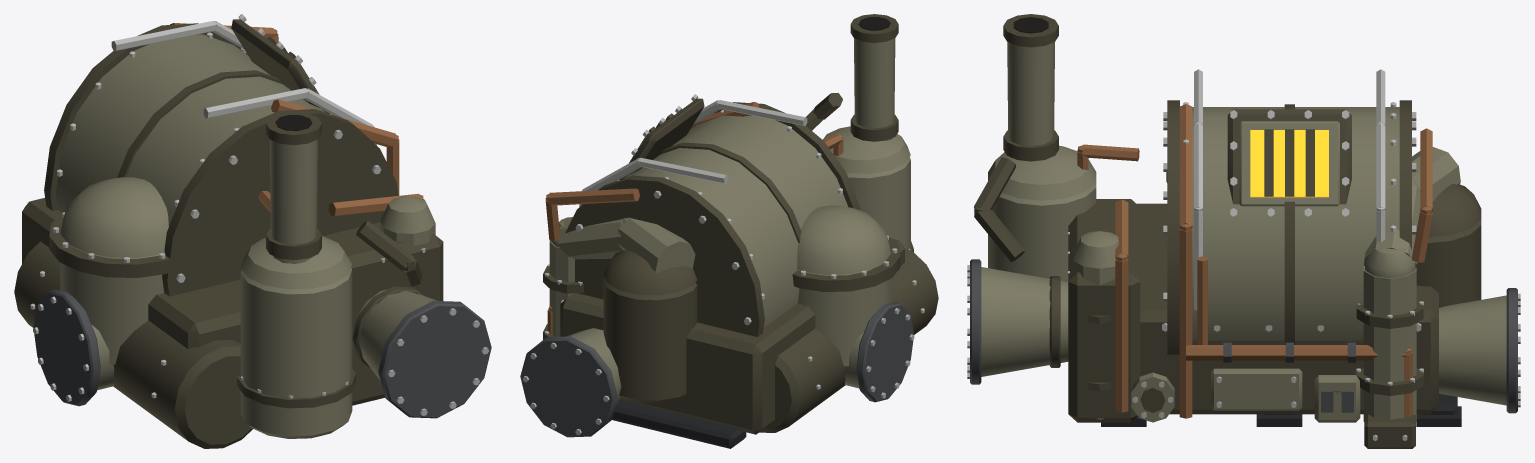
Rendered from boiler-west.glb.
The picture shows the model from 3 angles, left to right: view 1: azimuth 30°, elevation 25°; view 2: azimuth 150°, elevation 25°; view 3: azimuth 270°, elevation 25°; orthographic projection. The views are drawn at different scales.
Visible parts, largest first — view 1: body; view 2: body; view 3: body.
Part boxes in pixels (x1,y1,x2,y2): body: (14, 14, 491, 448); body: (520, 14, 938, 448); body: (967, 14, 1520, 448).
Size of the model in its own units: 2.06 by 1.96 by 2.99.
